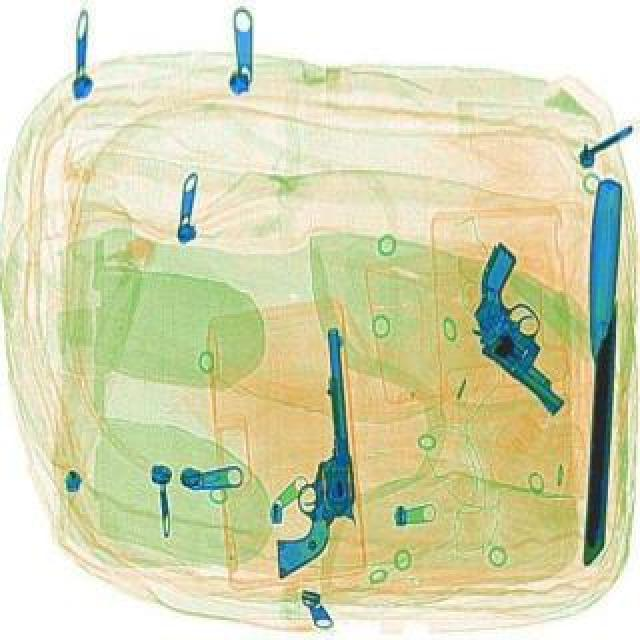gun: (428, 240, 624, 414), (254, 324, 362, 576)
knife: (580, 178, 624, 562)
